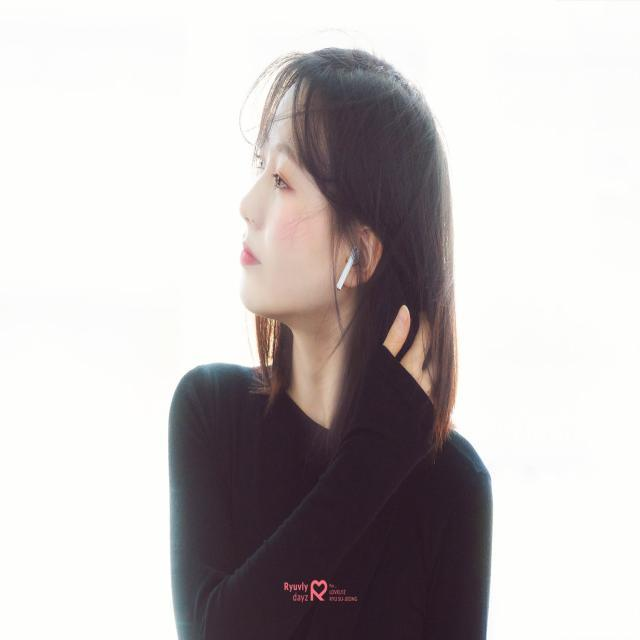earphone: (328, 227, 360, 315)
